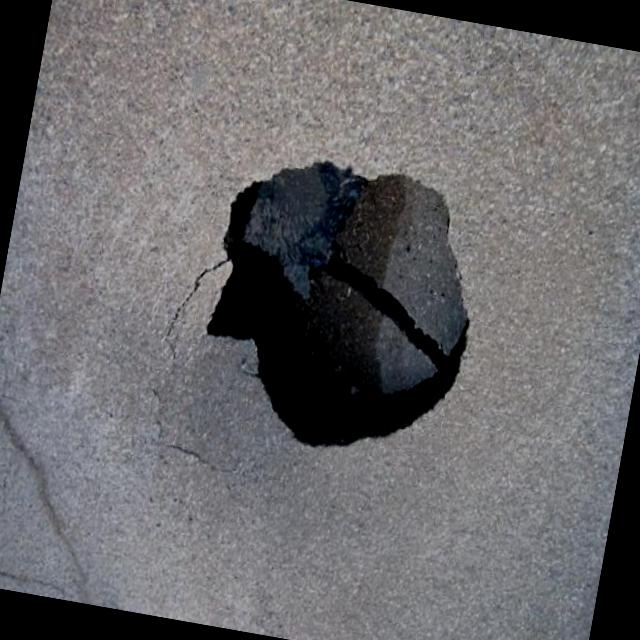pothole: (183, 145, 501, 477)
